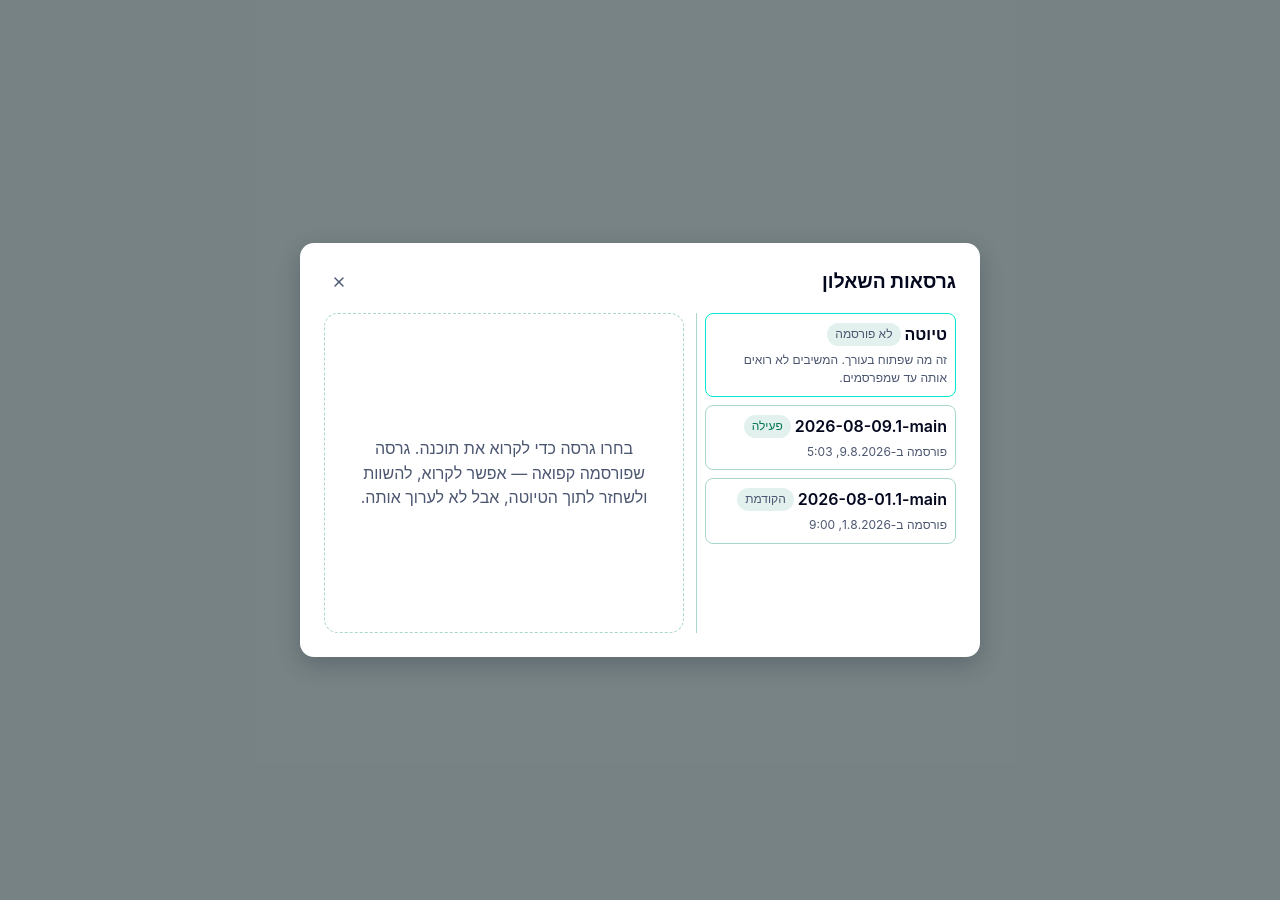
Test: reading a published version › renders its content, and offers nothing that could edit it
Click the text "2026-08-01.1-main" at coordinates (872, 500), box top-left (798, 487), bottom-right (947, 512)
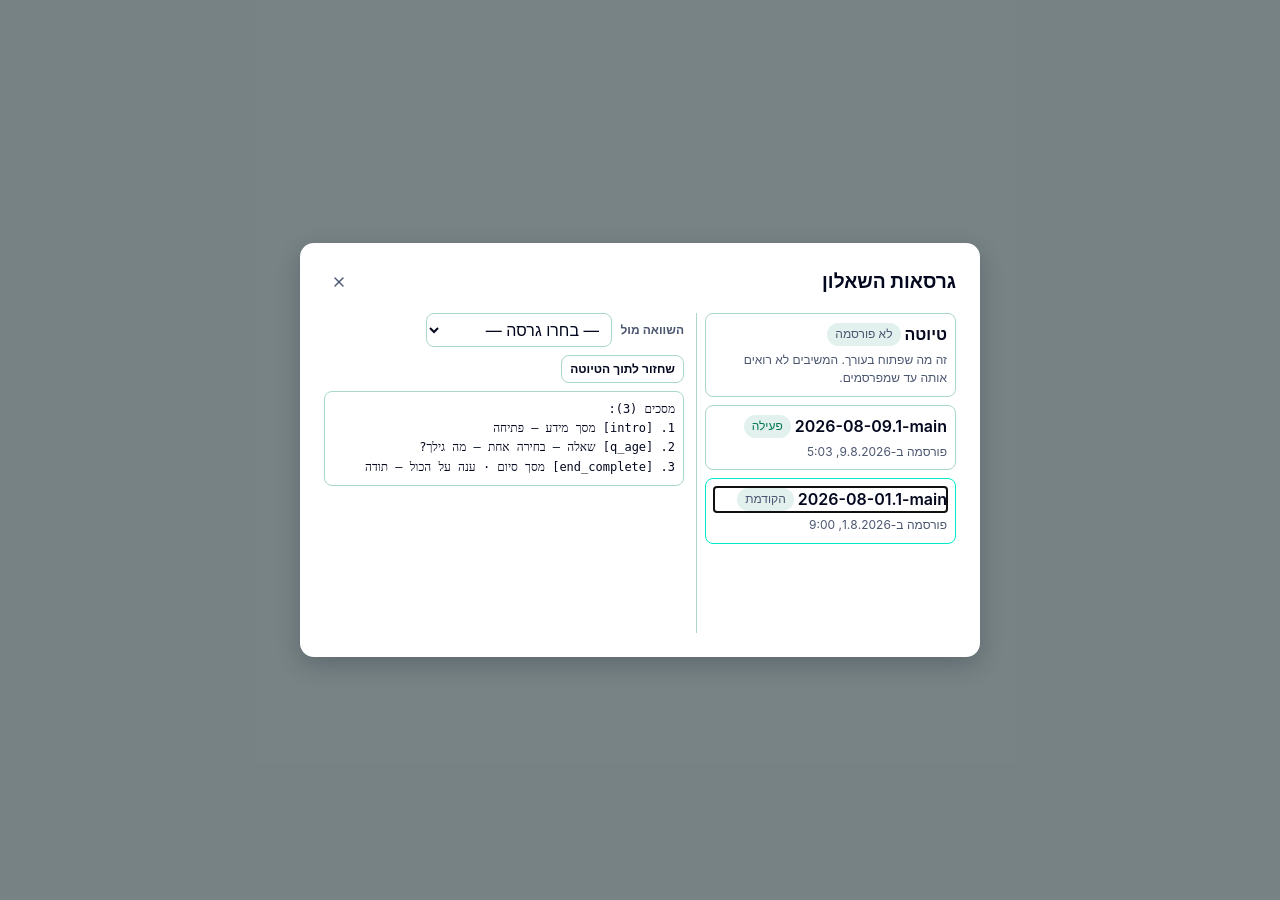
Expected: the text "מה גילך?" is shown, top-left (365, 402), bottom-right (675, 474)
